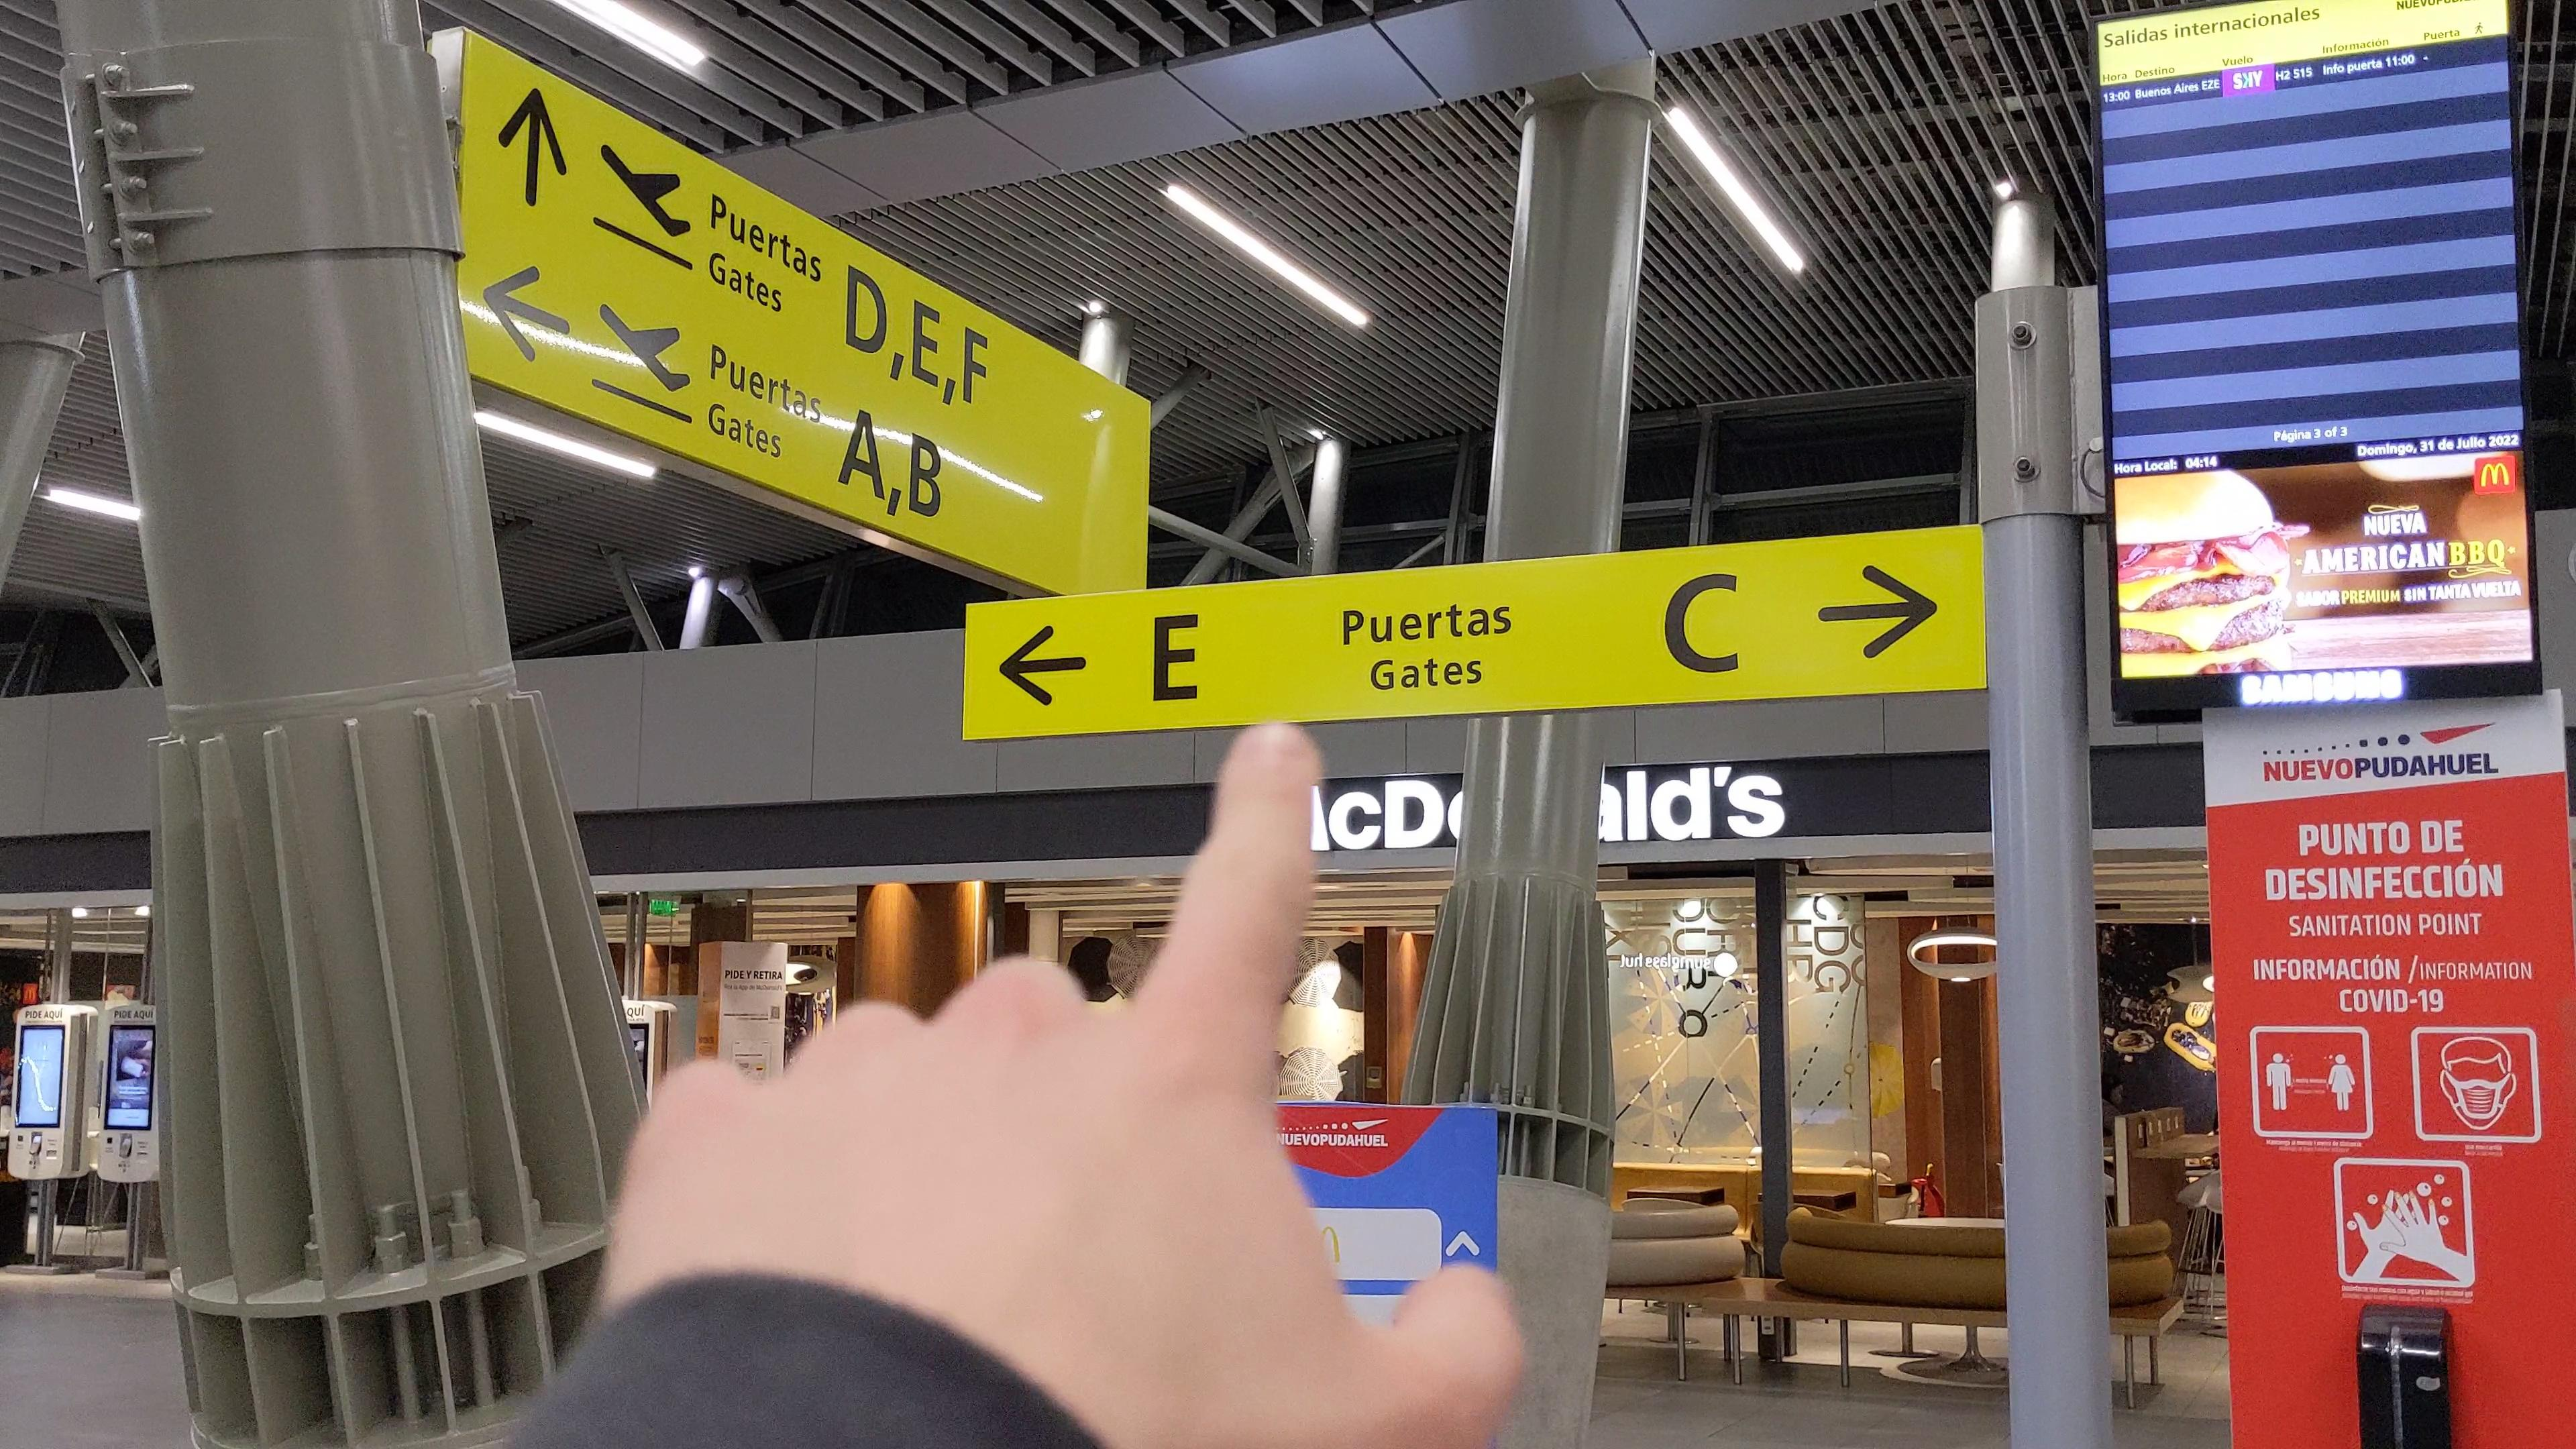airplane symbol: (596, 140, 694, 241), (598, 297, 694, 398)
thin left arrow: (479, 260, 575, 368), (996, 623, 1093, 711)
thin right arrow: (1815, 561, 1941, 663)
thin up arrow: (494, 78, 571, 216)
